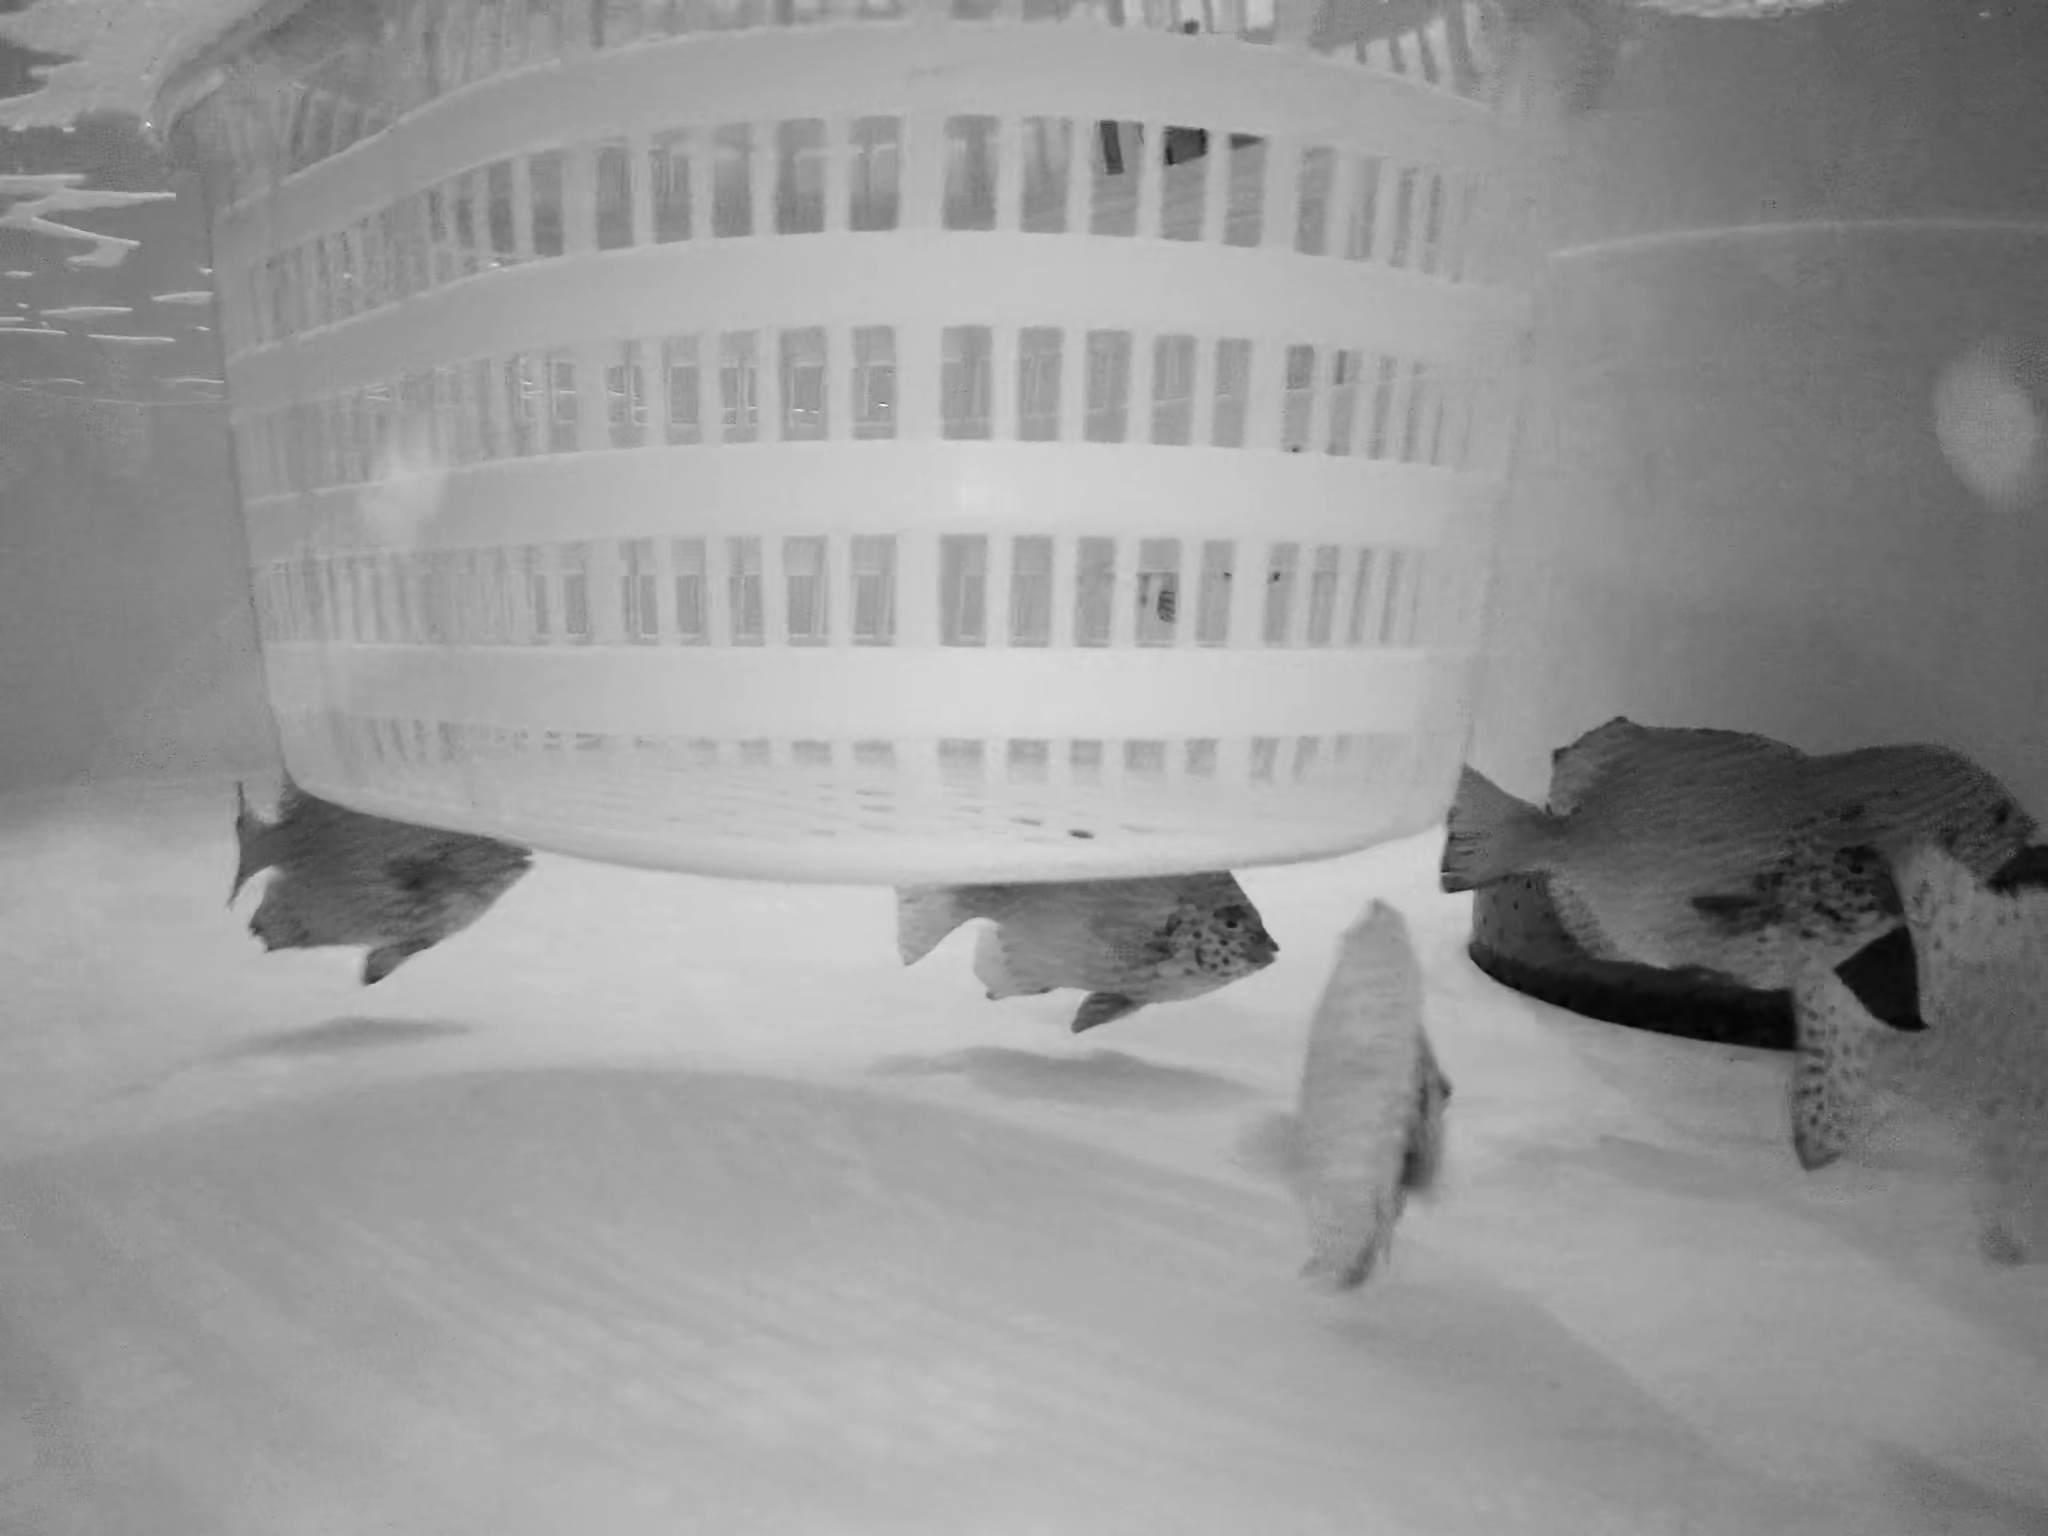fish: (1448, 721, 1898, 983), (1792, 850, 2048, 1260), (885, 783, 1285, 1020), (1258, 899, 1455, 1270), (213, 771, 534, 981), (1790, 736, 2027, 879)
